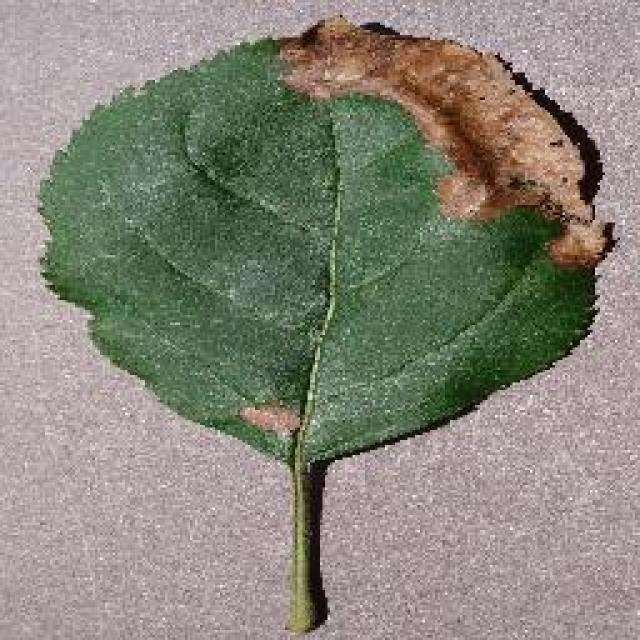Black_rot: (32, 28, 608, 632)
